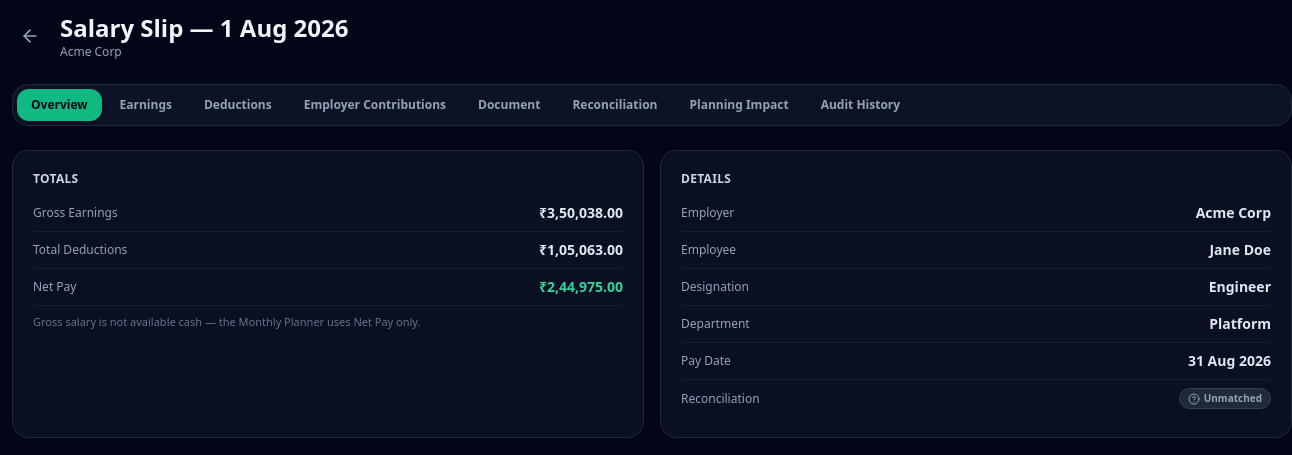
SalarySlipDetail › Reconciliation tab › shows a 'no matching transaction' empty state rather than fabricating a candidate
Click the tab "Reconciliation": [615, 105] box [558,89,672,121]
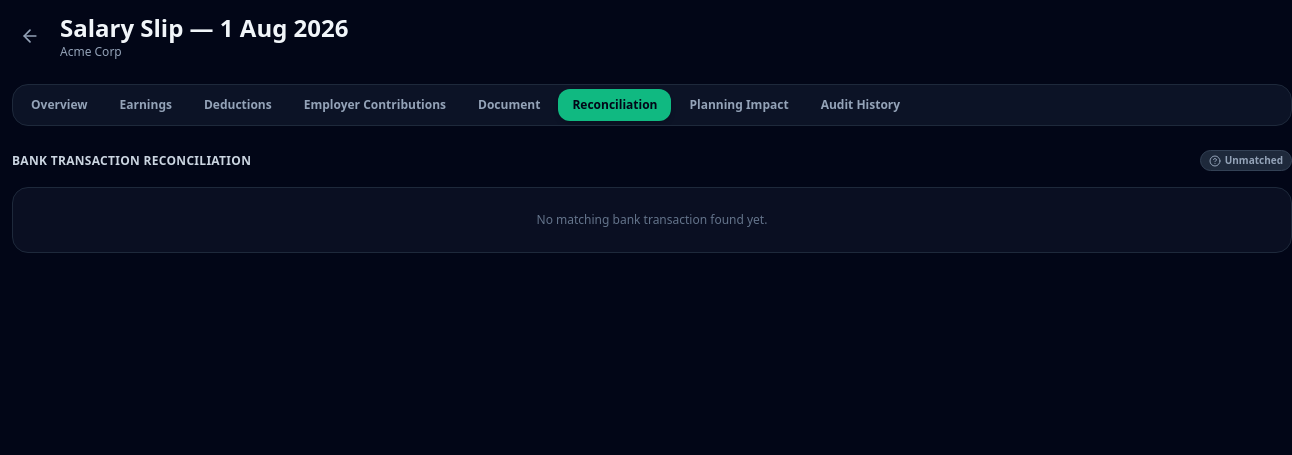
Expected: the text "No matching bank transaction found yet." is shown, [537,211,768,228]
